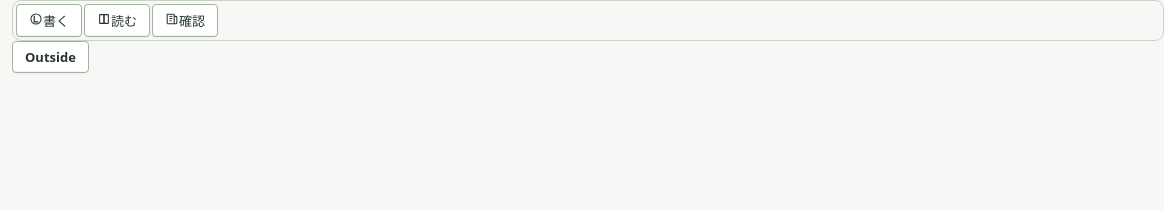
WorkspaceModeNavigation › dismisses choices when keyboard focus leaves the navigation
Click the button "確認": point(185, 20) [152,4,218,37]
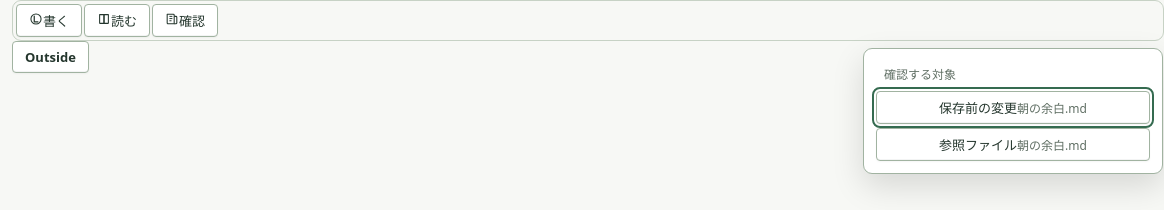
Leave the 5th button, box [876,91,1150,124]
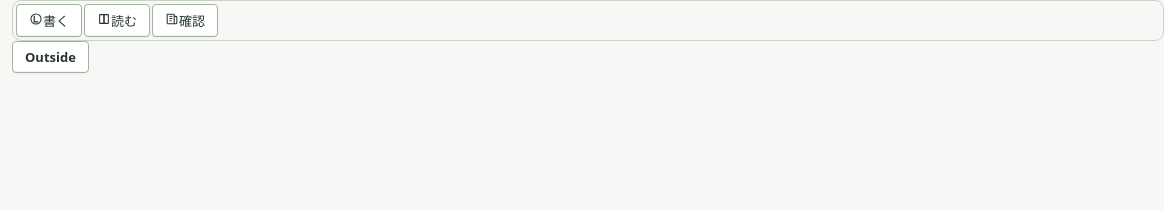
Now the text "確認する対象" is gone
